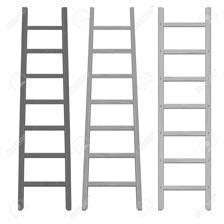Hand: (2, 26, 110, 201), (135, 55, 215, 221)
